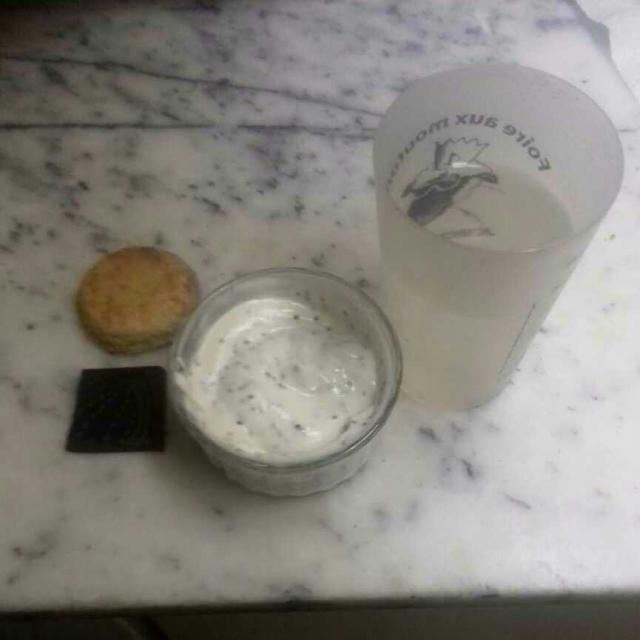biscuits: (62, 251, 204, 371)
dark-chocolate: (73, 370, 172, 456)
water: (375, 157, 564, 408)
yaourt-yahourt-yogourt-ou-yoghourt-natural: (183, 298, 381, 457)
